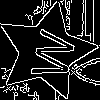W: (21, 26, 77, 83)
